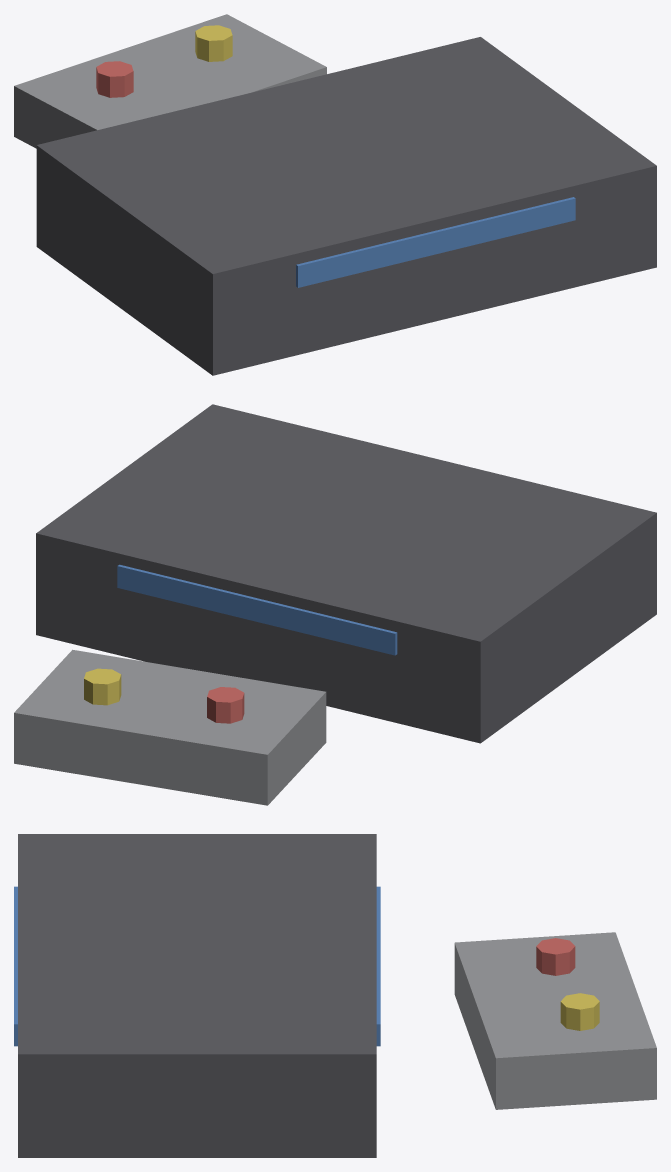
Rendered from elet_videogame.glb.
3 renders of one model, top to bottom at view 1: azimuth 30°, elevation 25°; view 2: azimuth 150°, elevation 25°; view 3: azimuth 270°, elevation 25°, orthographic.
Visible parts, largest first — view 1: ELET_Videogame_v01; view 2: ELET_Videogame_v01; view 3: ELET_Videogame_v01.
Part boxes in pixels (<box>): ELET_Videogame_v01: <box>14,14,656,375</box>; ELET_Videogame_v01: <box>14,404,656,805</box>; ELET_Videogame_v01: <box>14,834,656,1157</box>.
Size of the model in its own units: 0.32 by 0.07 by 0.3946.
